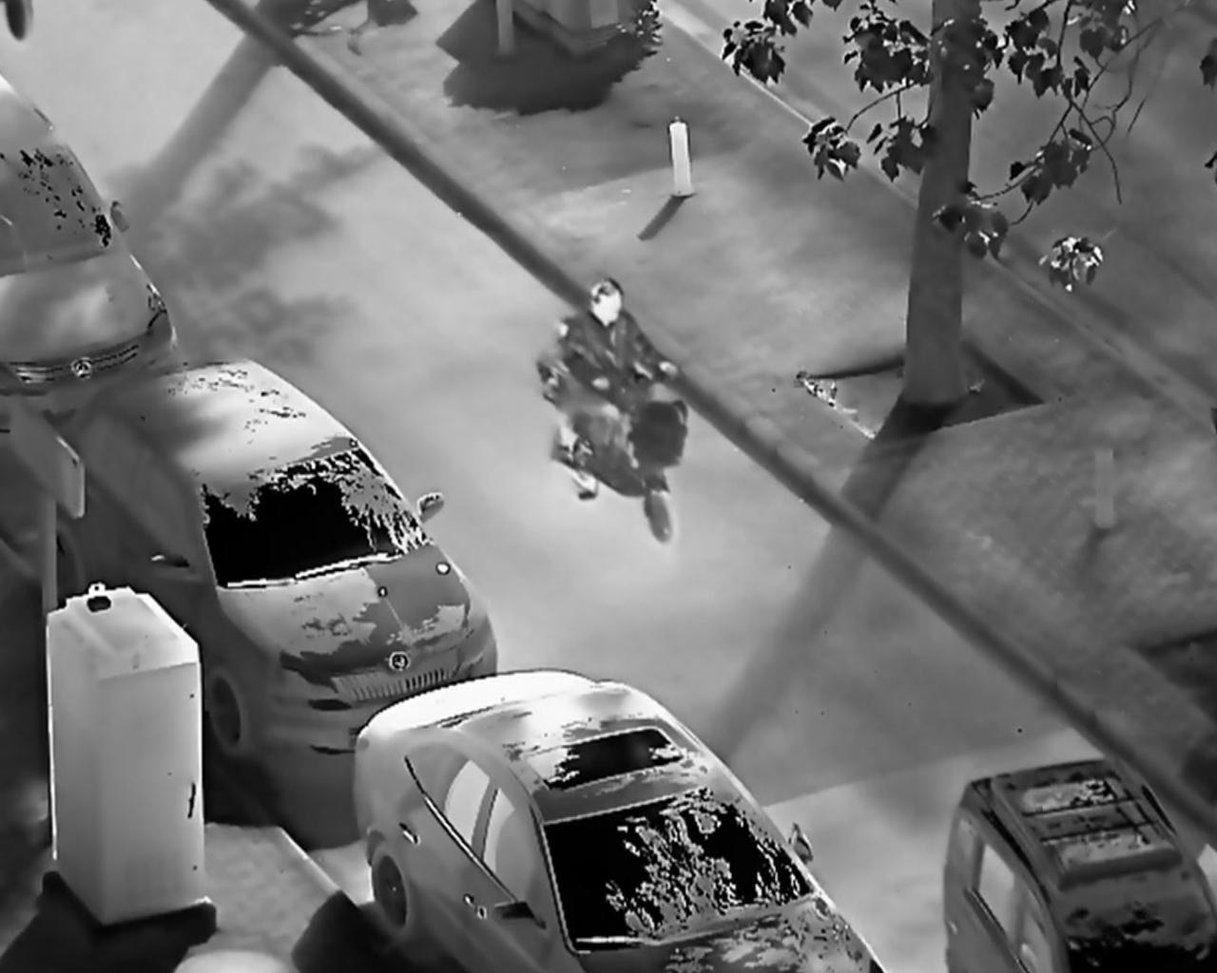person: (551, 275, 682, 505)
